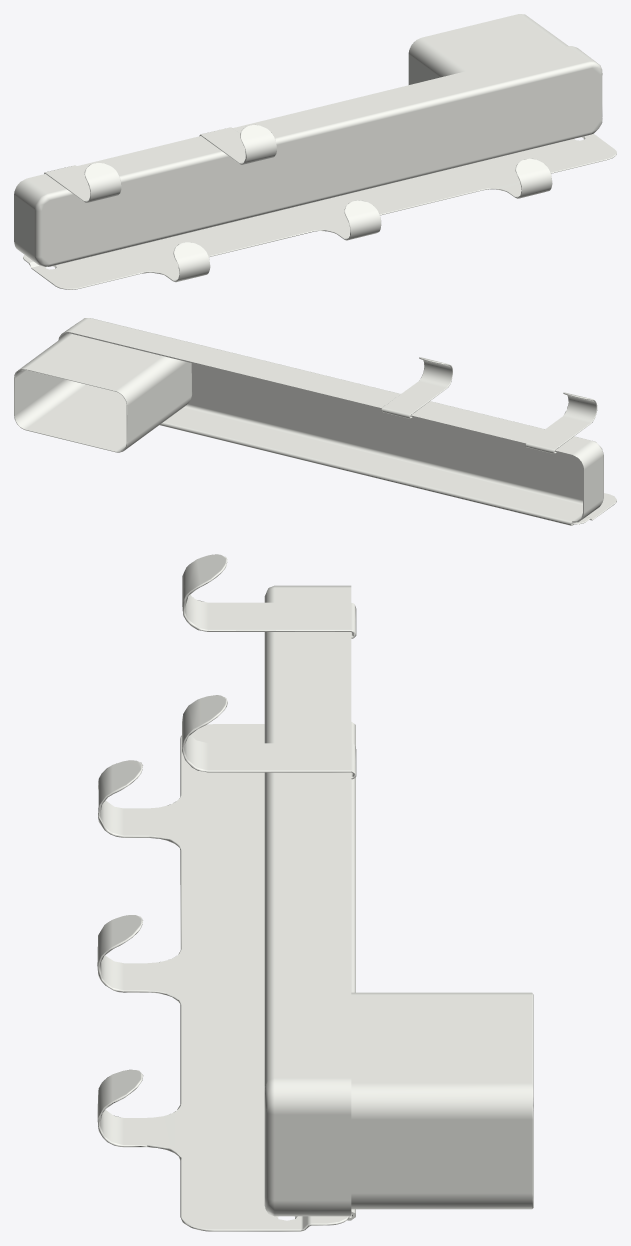
3 views of the same model, one above another, from view 1: azimuth 30°, elevation 25°; view 2: azimuth 150°, elevation 25°; view 3: azimuth 270°, elevation 25° (orthographic). The views are drawn at different scales.
Parts seen in each view (by area): view 1: 30618736-ALTARLIDEN001; view 2: 30618736-ALTARLIDEN001; view 3: 30618736-ALTARLIDEN001.
Boxes of the visible parts, <box> form: 30618736-ALTARLIDEN001: <box>14,14,616,289</box>; 30618736-ALTARLIDEN001: <box>14,318,616,525</box>; 30618736-ALTARLIDEN001: <box>97,554,533,1231</box>.
Bounding box in the file's own units: 0.365 × 0.0677 × 0.131.
Materials: 1 (1 with a texture image).
